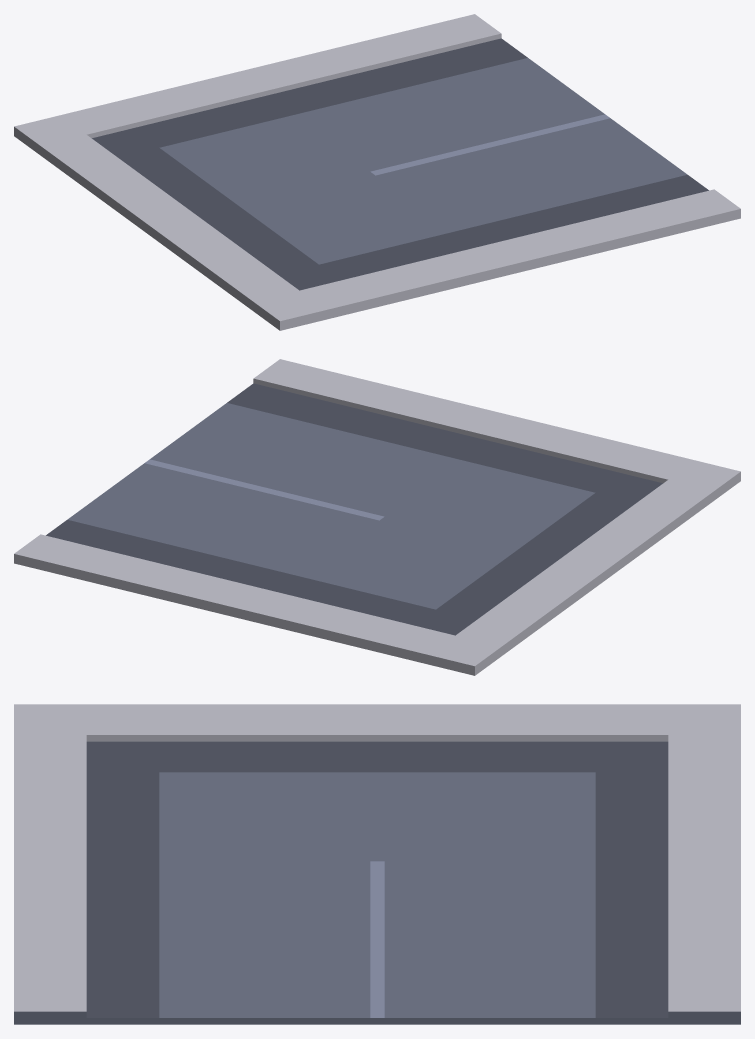
File: road_end.obj
3 views of the same model, one above another, from view 1: azimuth 30°, elevation 25°; view 2: azimuth 150°, elevation 25°; view 3: azimuth 270°, elevation 25° (orthographic). The views are drawn at different scales.
Visible parts, largest first — view 1: road_end; view 2: road_end; view 3: road_end.
Boxes of the visible parts, x1,y1,x2,y2 form: road_end: (14, 14, 740, 330); road_end: (14, 359, 740, 675); road_end: (14, 704, 740, 1024).
Size of the model in its own units: 1 by 0.02 by 1.
